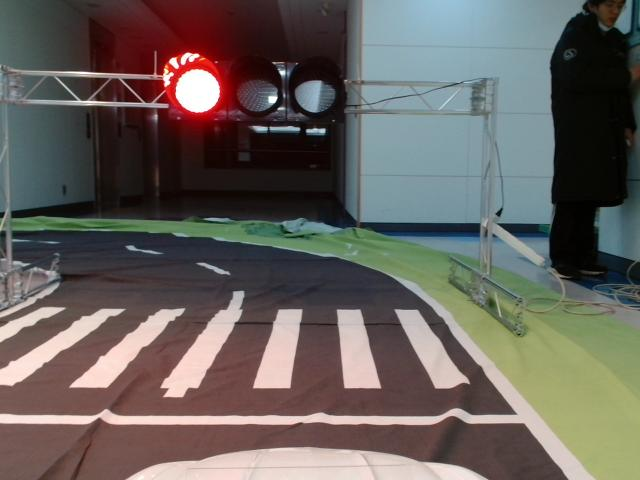crosswalk: (1, 306, 475, 391)
traffic light-red-: (162, 52, 345, 119)
